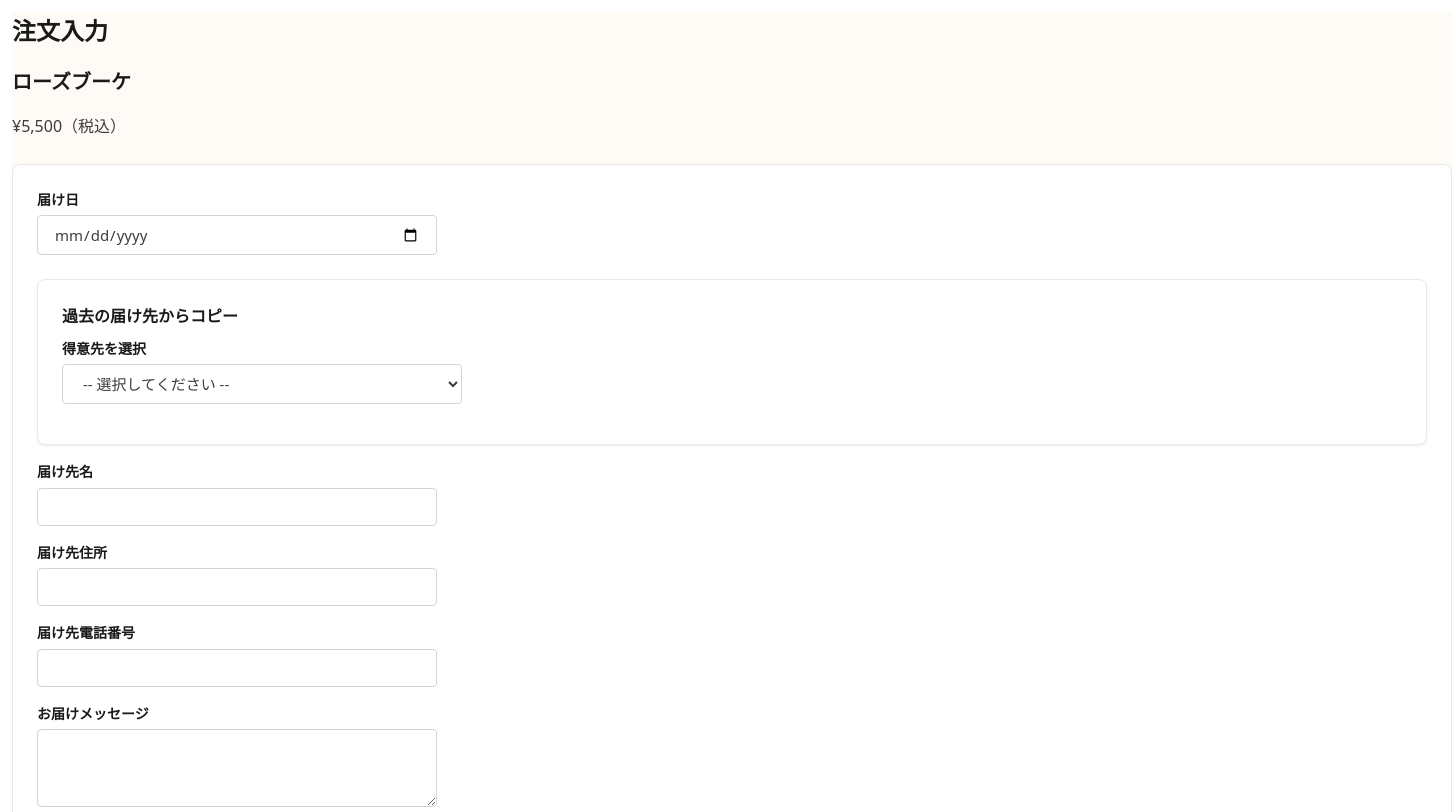
OrderForm › 過去の届け先からコピー › 届け先を選択するとフォームに自動入力される
Select "山田花店" in the dropdown labelled "得意先を選択" at [262, 384], box [62,364,462,404]
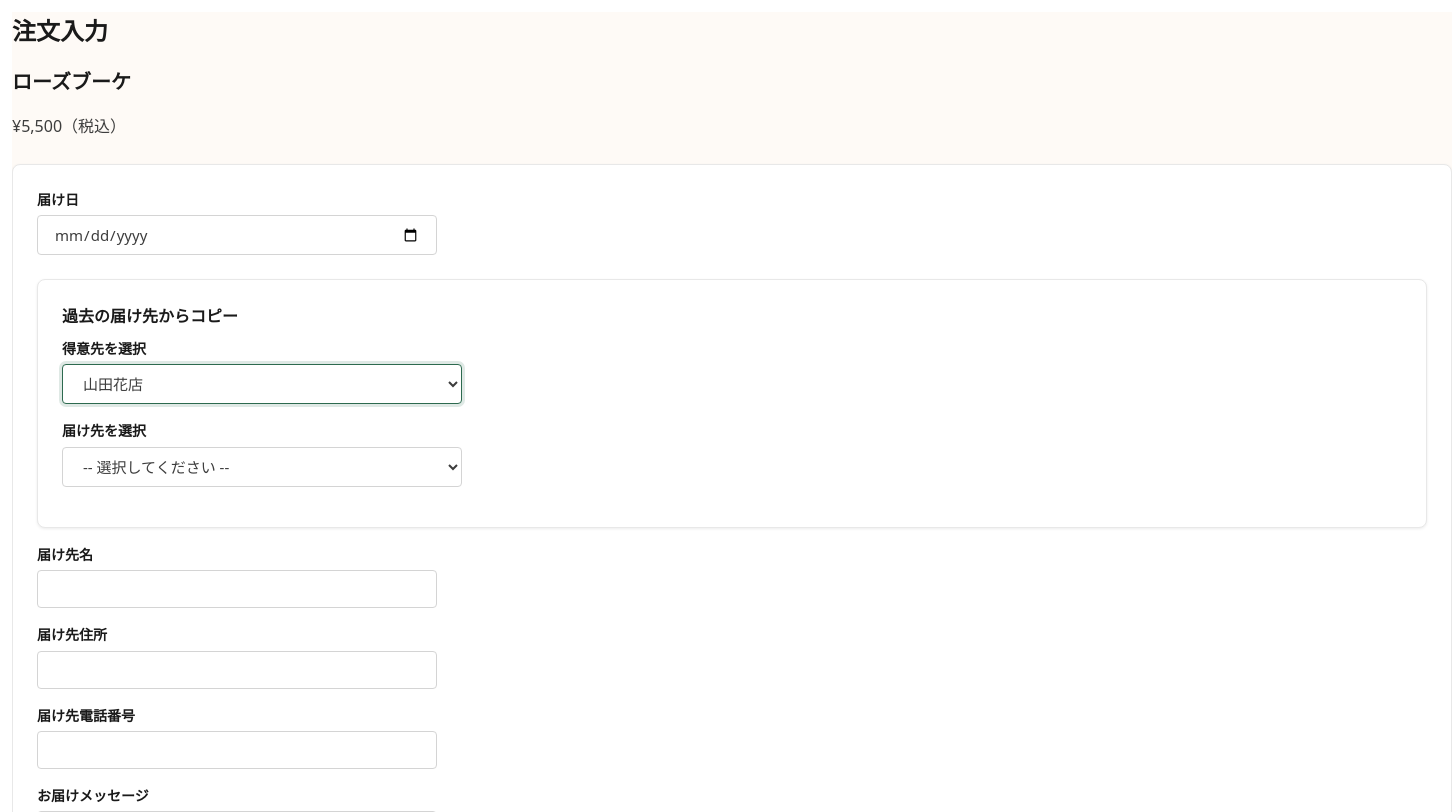
Select "田中太郎 - 東京都渋谷区1-1-1" in the dropdown labelled "届け先を選択" at [262, 467], box [62,447,462,487]
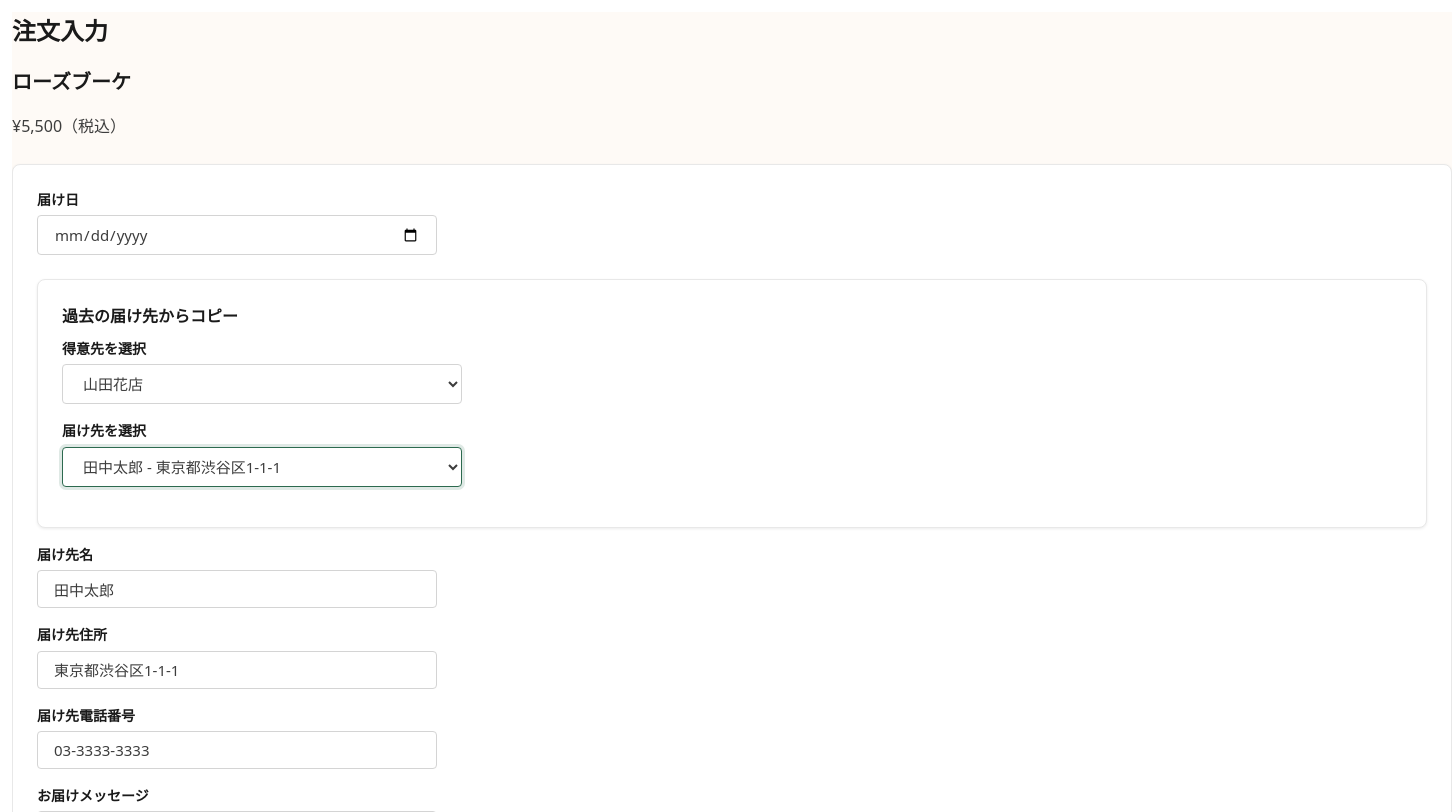
Check: the field labelled "届け先名" holds "田中太郎", box [37,570,437,608]
Check: the field labelled "届け先住所" holds "東京都渋谷区1-1-1", box [37,650,437,688]
Check: the field labelled "届け先電話番号" holds "03-3333-3333", box [37,731,437,769]
